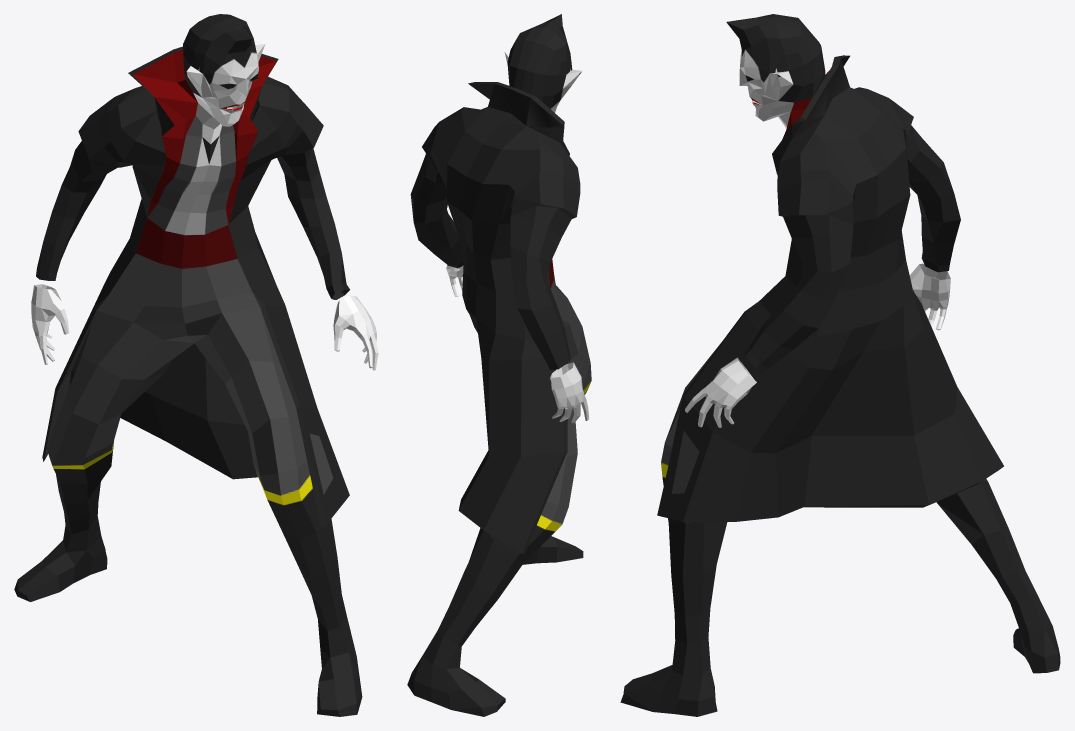
The model's file is VampireIdle(7).obj.
3 views of the same model, side by side, from view 1: azimuth 30°, elevation 25°; view 2: azimuth 150°, elevation 25°; view 3: azimuth 270°, elevation 25° (orthographic). The views are drawn at different scales.
Parts seen in each view (by area): view 1: Plane002; view 2: Plane002; view 3: Plane002.
Boxes of the visible parts, x1,y1,x2,y2 form: Plane002: (14, 14, 378, 716); Plane002: (407, 14, 591, 716); Plane002: (620, 14, 1060, 716).
Bounding box in the file's own units: 120 × 305 × 185.
